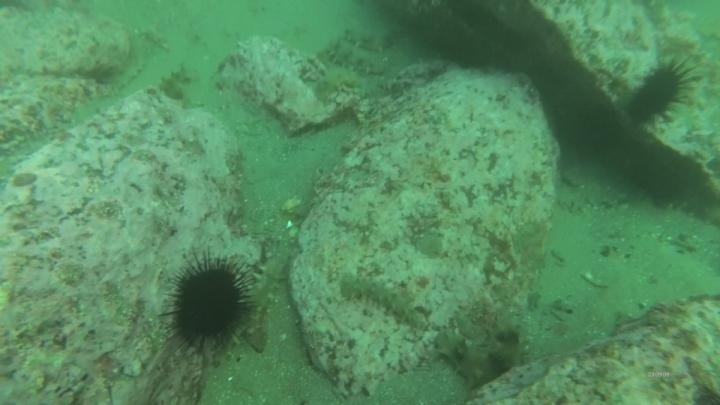echinus: (163, 254, 256, 355), (624, 57, 696, 128)
holothurian: (431, 325, 519, 390), (240, 247, 292, 353), (338, 273, 425, 328), (554, 179, 635, 215), (322, 39, 392, 75), (312, 65, 369, 101), (157, 63, 197, 104), (344, 25, 395, 51)
